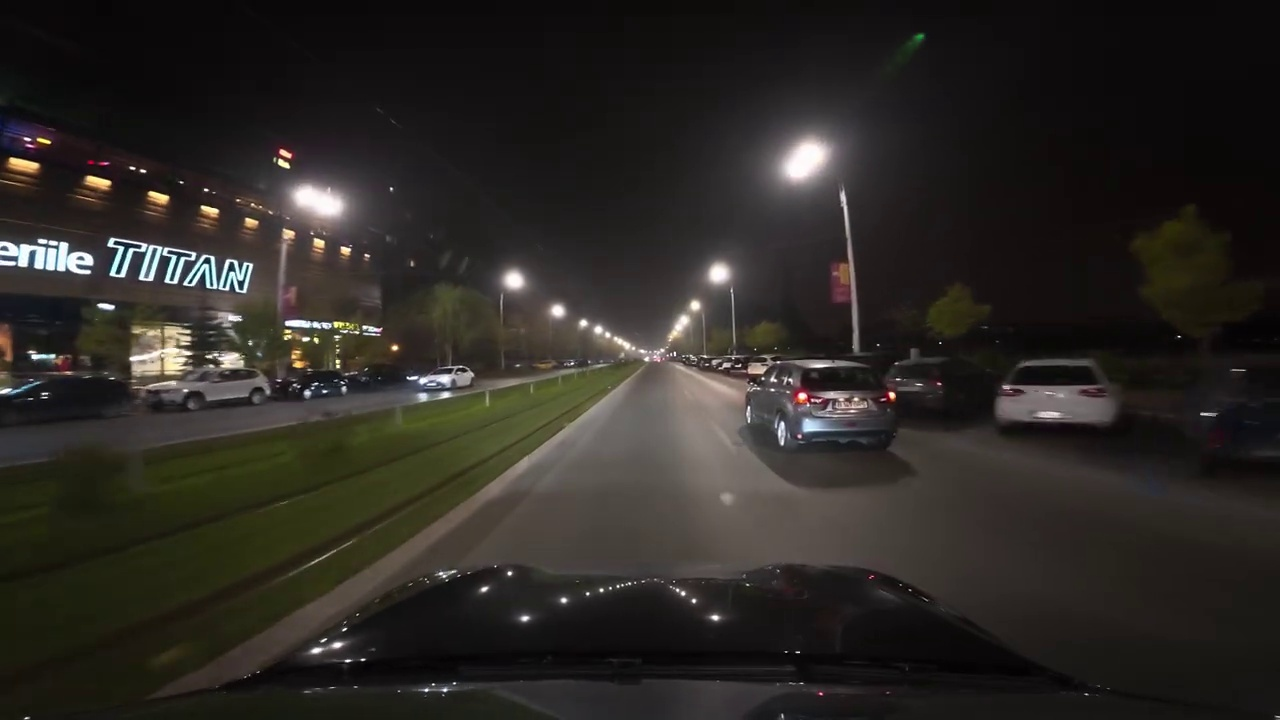acesa: (783, 139, 827, 182), (296, 188, 340, 218), (500, 266, 527, 294), (706, 260, 732, 286), (547, 301, 567, 322)
